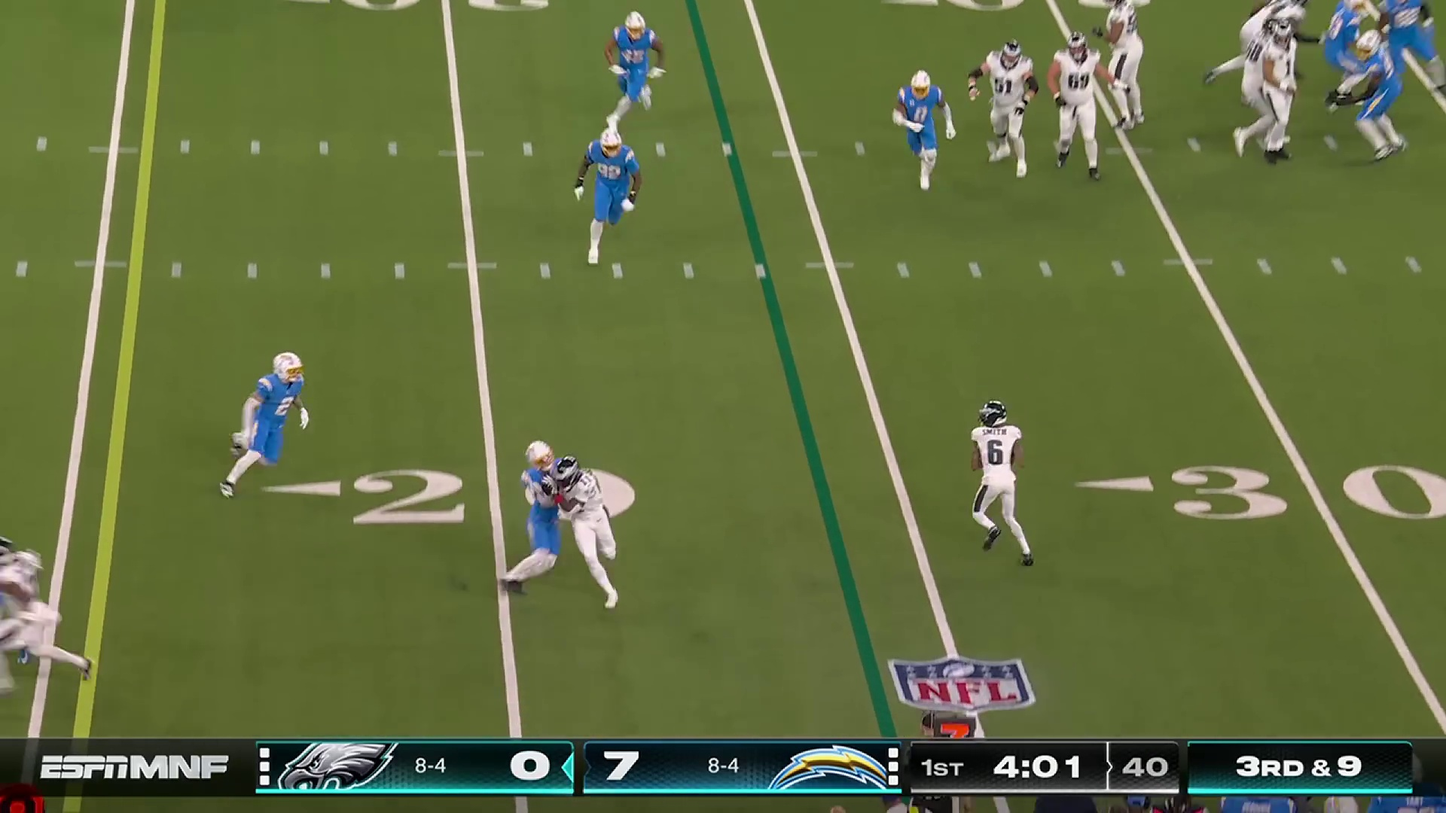player: (217, 349, 330, 525), (966, 400, 1041, 568), (561, 455, 632, 609), (507, 443, 566, 611), (0, 528, 59, 693), (972, 41, 1039, 183), (578, 126, 639, 277), (597, 14, 671, 130), (1058, 24, 1109, 183), (1105, 0, 1153, 144), (894, 73, 949, 191), (1349, 40, 1401, 159), (1385, 0, 1441, 99), (1268, 24, 1299, 159), (1231, 31, 1267, 145), (1327, 0, 1367, 100), (1245, 0, 1316, 30)
